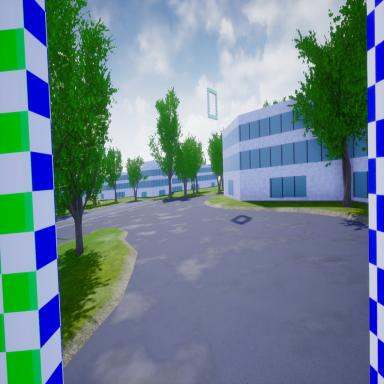gate: (207, 87, 218, 122)
